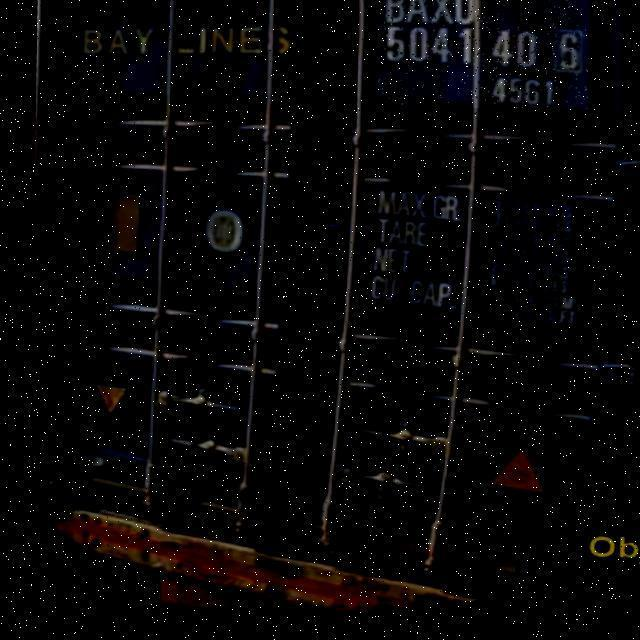container_number_h: (364, 0, 598, 138)
